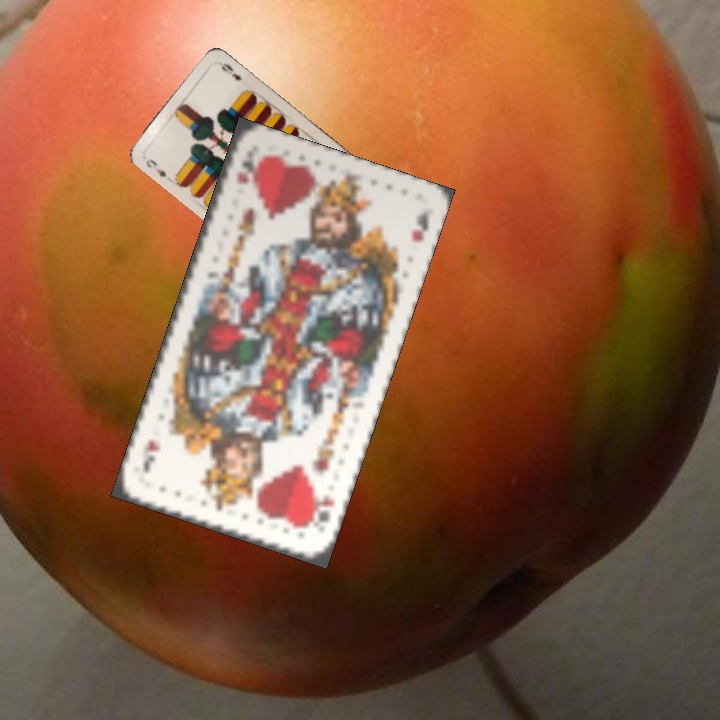E9: (142, 155, 169, 180)
HK: (303, 489, 339, 532), (232, 154, 258, 188)
